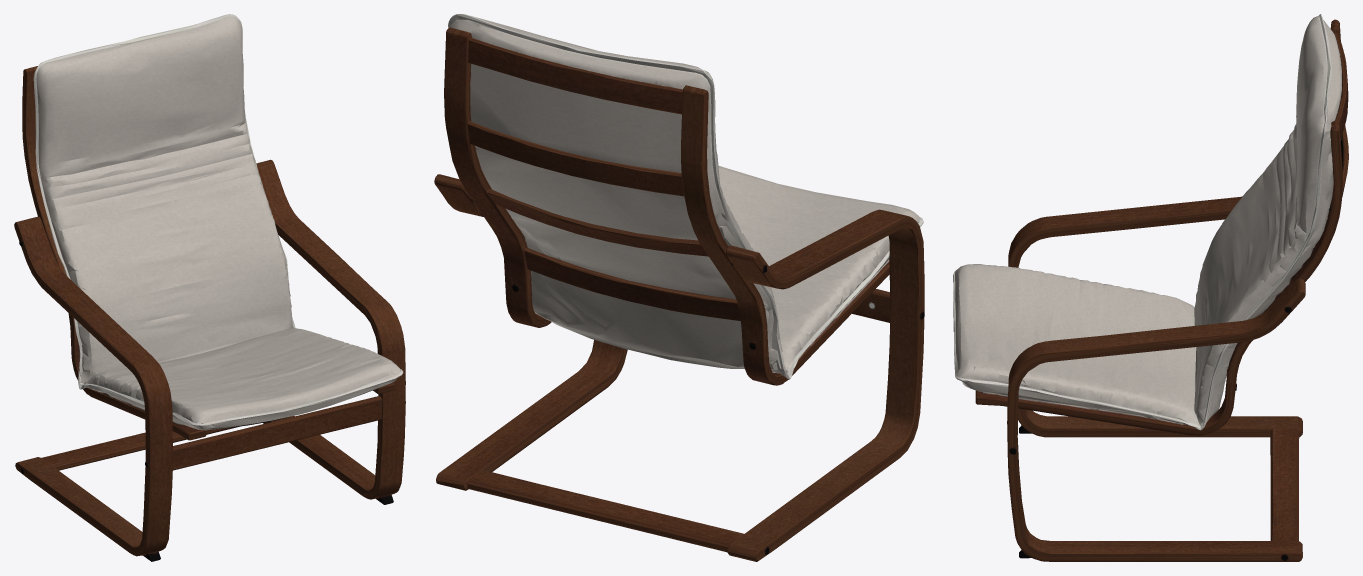
3 renders of one model, left to right at view 1: azimuth 30°, elevation 25°; view 2: azimuth 150°, elevation 25°; view 3: azimuth 270°, elevation 25°, orthographic. The views are drawn at different scales.
Parts seen in each view (by area): view 1: ProcessedMeshNode; view 2: ProcessedMeshNode; view 3: ProcessedMeshNode.
Boxes of the visible parts, x1=… form: ProcessedMeshNode: x1=14, y1=14, x2=405, y2=561; ProcessedMeshNode: x1=434, y1=14, x2=924, y2=561; ProcessedMeshNode: x1=953, y1=14, x2=1348, y2=561.
Bounding box in the file's own units: 0.688 × 0.9984 × 0.8317.
Materials: 2 (2 with a texture image).
